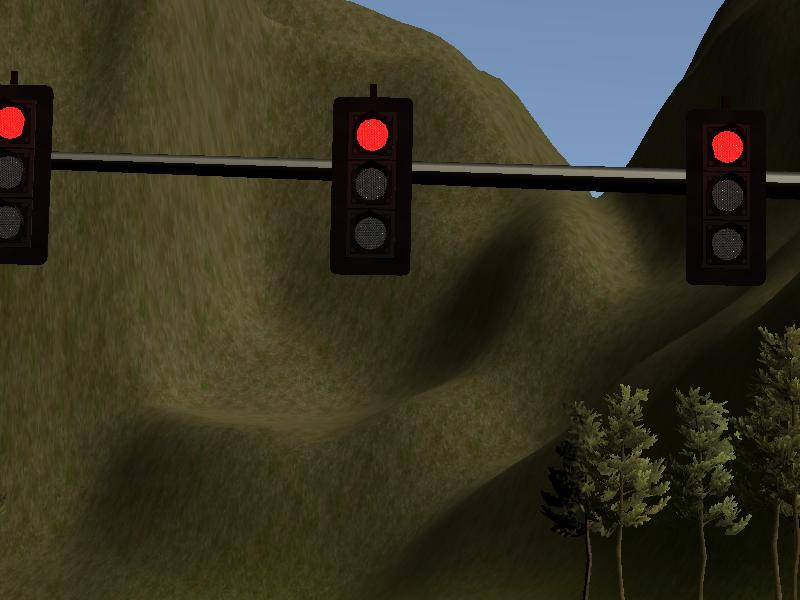Red: (335, 98, 409, 274), (693, 116, 765, 282), (1, 86, 46, 260)
